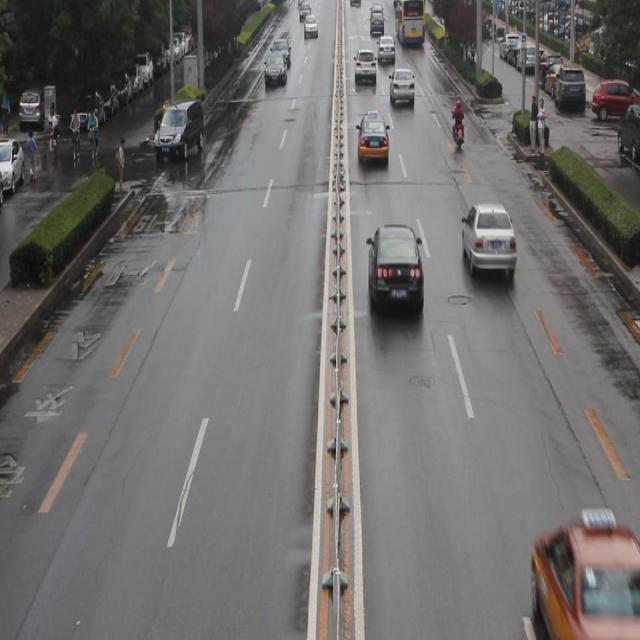car: (530, 509, 640, 628), (365, 222, 424, 321), (460, 204, 514, 282), (357, 114, 388, 164)
truck: (154, 105, 206, 159)
